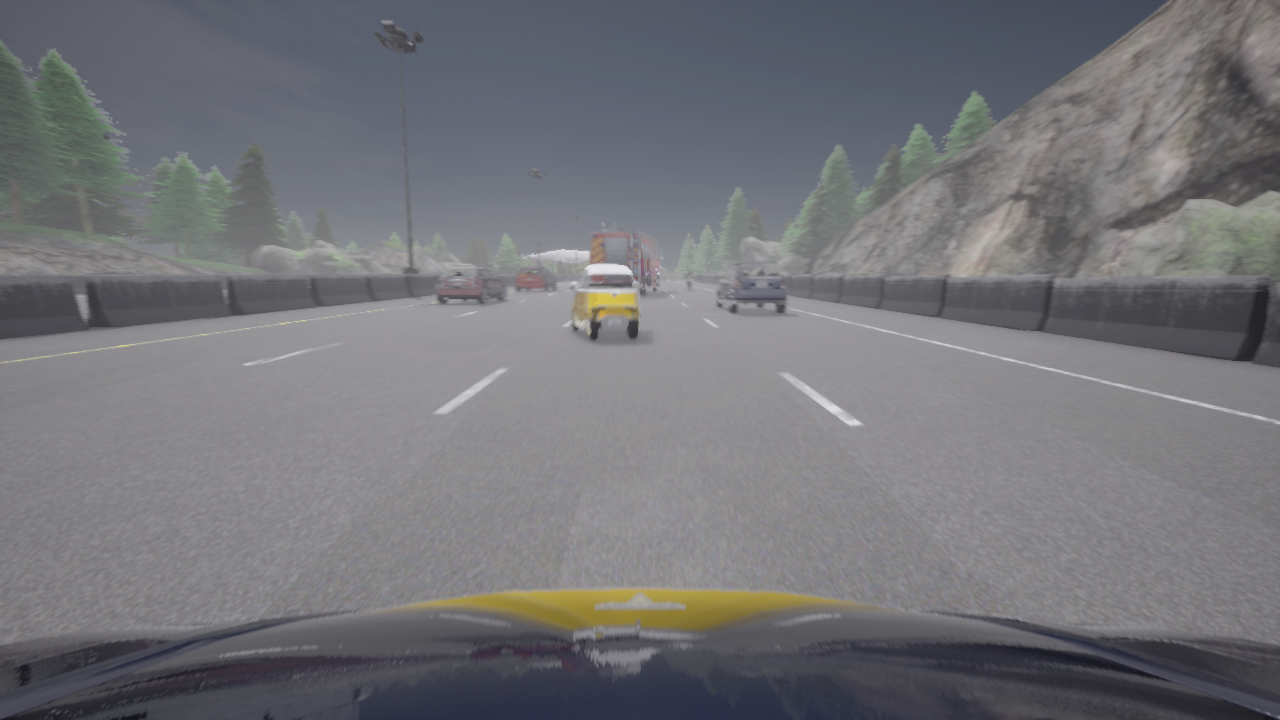cyclist: (0, 588, 1279, 719), (568, 265, 639, 340), (590, 223, 663, 295), (715, 262, 787, 313), (435, 267, 505, 304), (515, 267, 555, 291), (685, 275, 691, 290)
